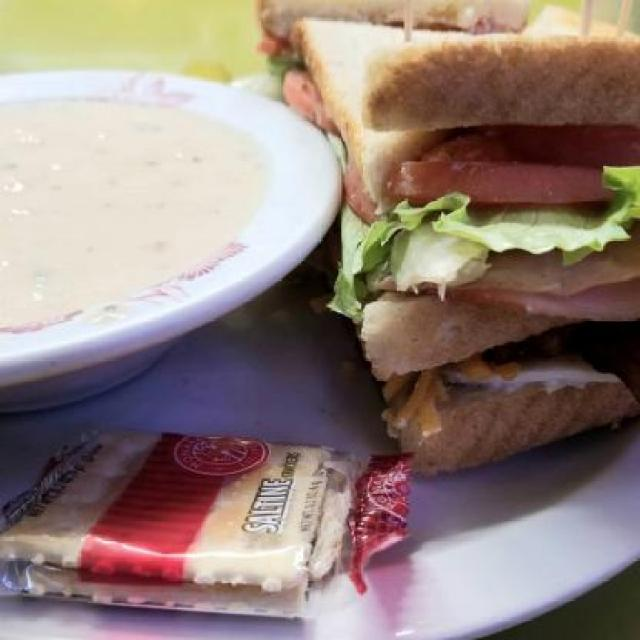club sandwich: (253, 1, 639, 492)
